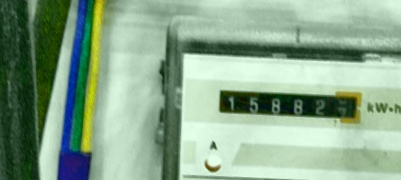1: (225, 95, 236, 113)
2: (313, 98, 325, 116)
5: (246, 96, 259, 114)
7: (334, 106, 346, 120)
8: (269, 97, 281, 115), (292, 99, 303, 115)
screen: (210, 79, 368, 129)
